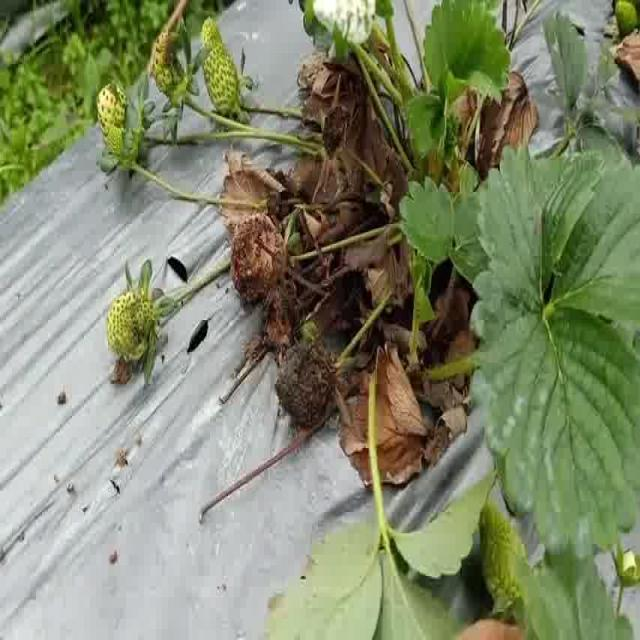Mancha negra Antracnosis: (269, 330, 342, 437), (225, 213, 286, 300)
